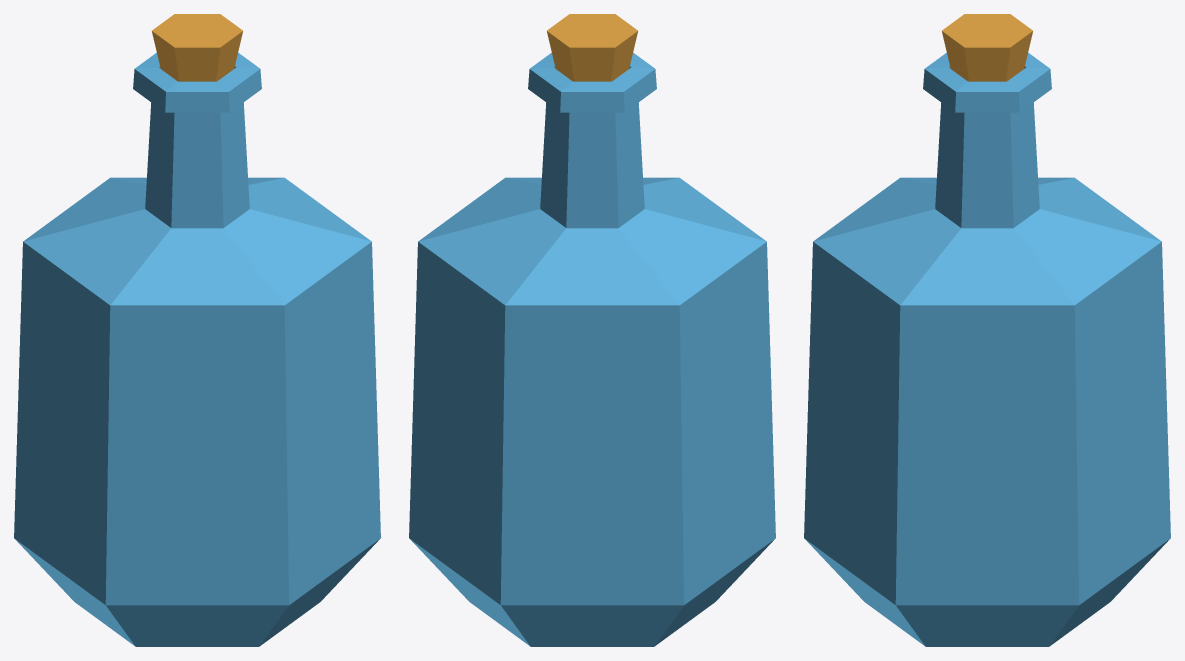
Rendered from SM_Bottle_Alchemy_E_Full.fbx.
The picture shows the model from 3 angles, left to right: view 1: azimuth 30°, elevation 25°; view 2: azimuth 150°, elevation 25°; view 3: azimuth 270°, elevation 25°; orthographic projection.
Parts seen in each view (by area): view 1: bottle-alchemy-e-full; view 2: bottle-alchemy-e-full; view 3: bottle-alchemy-e-full.
Boxes of the visible parts, x1=… form: bottle-alchemy-e-full: x1=14, y1=14, x2=380, y2=646; bottle-alchemy-e-full: x1=409, y1=14, x2=775, y2=646; bottle-alchemy-e-full: x1=804, y1=14, x2=1170, y2=646.
Bounding box in the file's own units: 0.1062 × 0.2105 × 0.1226.
